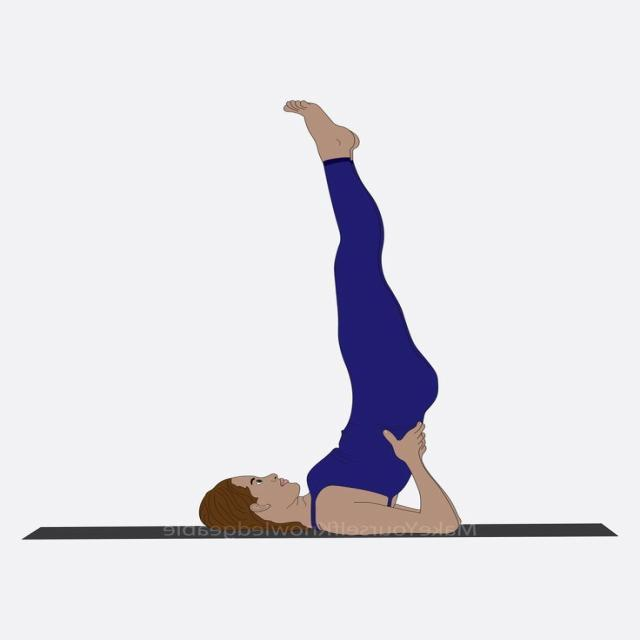yoga-pose shoulderstand: (197, 90, 462, 538)
